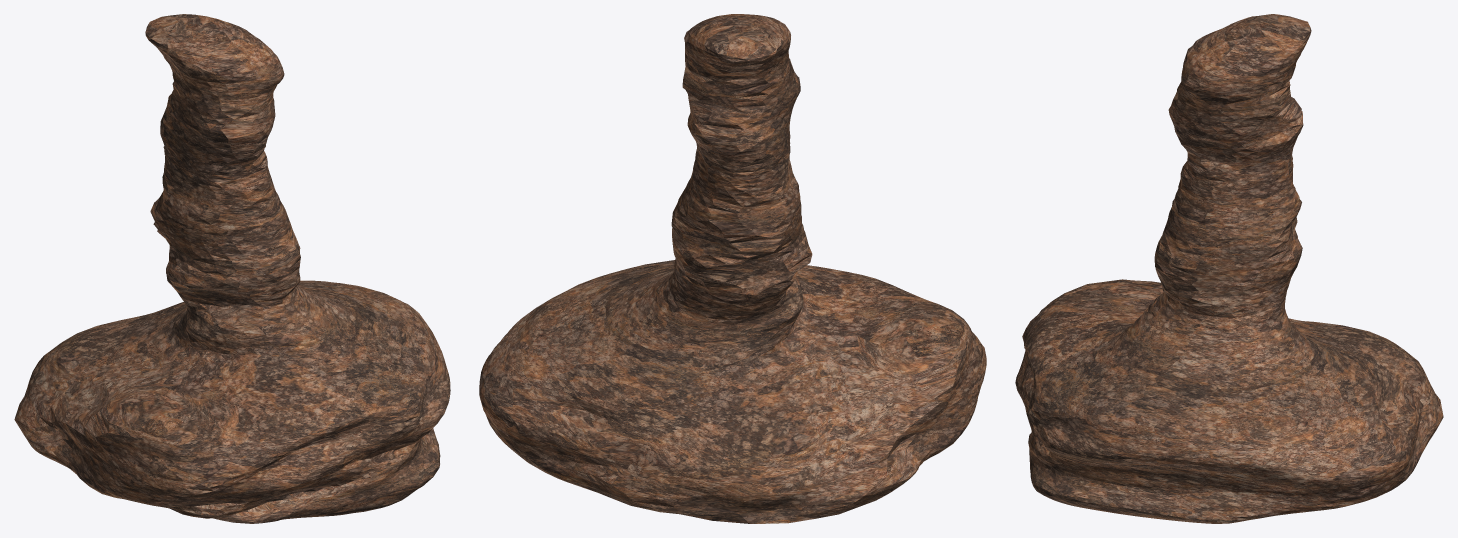
Rendered from Cave 1.fbx.
3 renders of one model, left to right at view 1: azimuth 30°, elevation 25°; view 2: azimuth 150°, elevation 25°; view 3: azimuth 270°, elevation 25°, orthographic. The views are drawn at different scales.
Visible parts, largest first — view 1: Mesh; view 2: Mesh; view 3: Mesh.
Part boxes in pixels (x1,y1,x2,y2): Mesh: [14, 14, 450, 523]; Mesh: [479, 14, 986, 523]; Mesh: [1015, 14, 1443, 523].
Bounding box in the file's own units: 24214 × 26303 × 23913.
